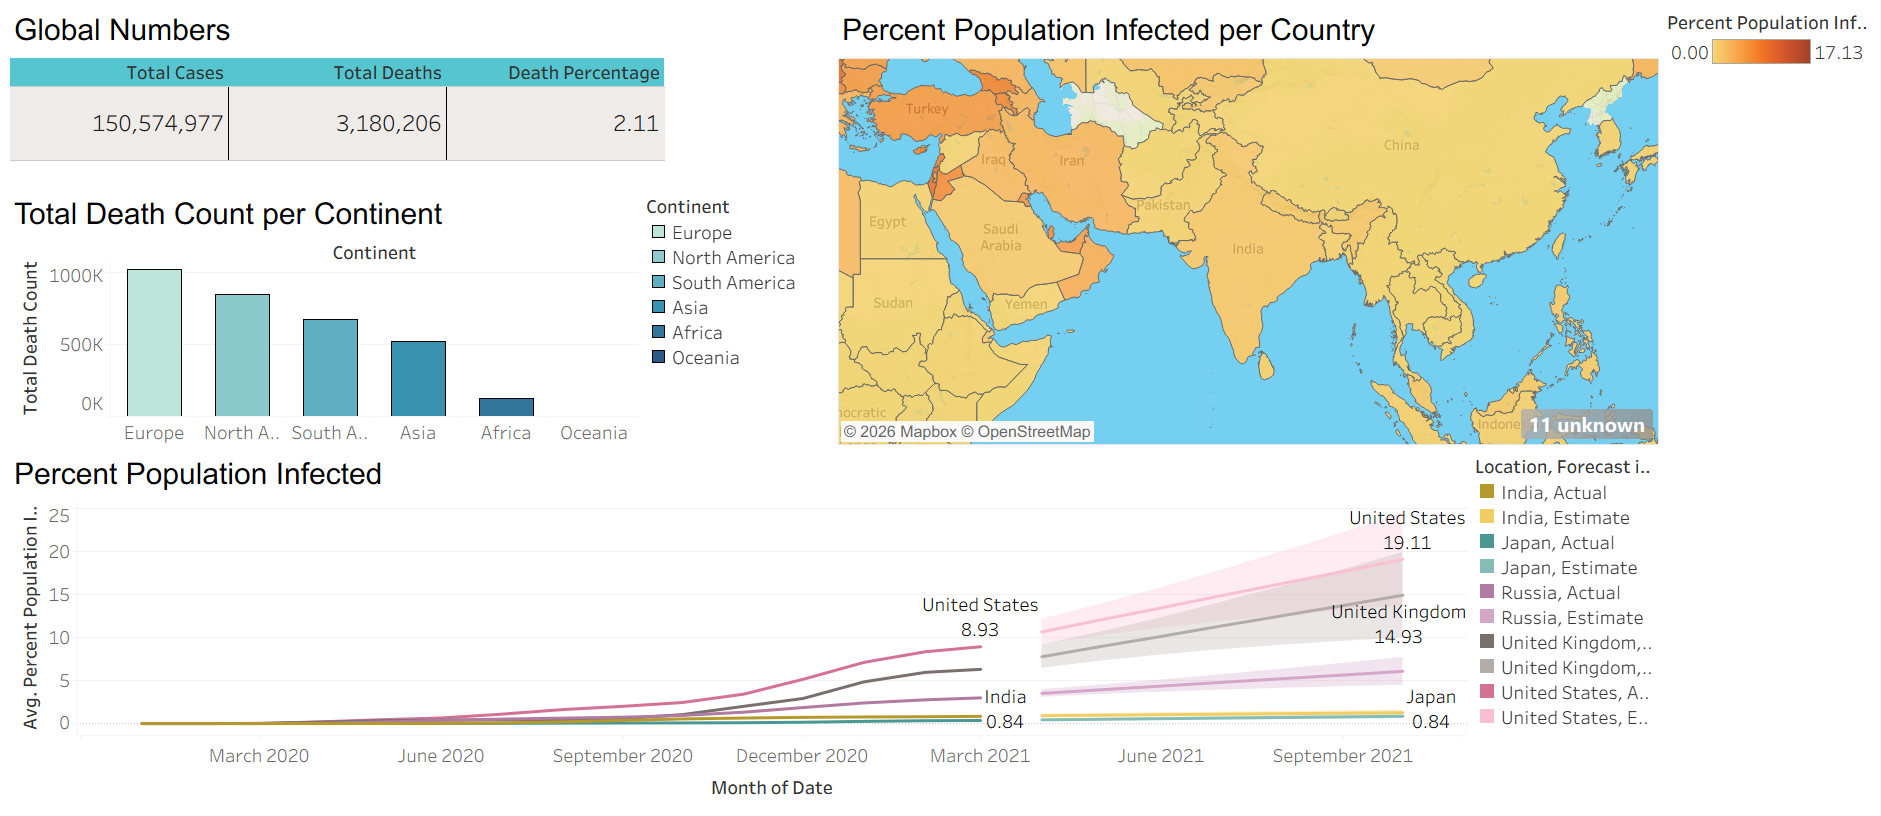

The page's visual inventory and layout, read from the dashboard file:
{"tool":"tableau","page":{"name":"Dashboard 1","canvas":[1000,1000],"units":"permille","ordinal":0},"visuals":[{"type":"worksheet","title":"Sheet 1","mark":"Automatic","box":[5,9.7,429.8,224.1]},{"type":"worksheet","title":"Sheet 3","mark":"Automatic","box":[434.8,9.7,429.9,540.8]},{"type":"legend","title":"Sheet 3","param":"[federated.0h2jeox1h66dwm1c8emeq0co53yq].[sum:PercentPopulationInfected:qk]","box":[864.7,9.7,130.3,98.7]},{"type":"worksheet","title":"Sheet 2","mark":"Automatic","rows":["TotalDeathCount"],"cols":["location"],"box":[5,233.9,330.1,316.7]},{"type":"legend","title":"Sheet 2","param":"[federated.0v3s50j1tna2s71ac4bmb1oc6nqc].[none:location:nk]","box":[335.1,233.9,99.8,316.7]},{"type":"worksheet","title":"Sheet 4","mark":"Automatic","rows":["PercentPopulationInfected"],"cols":["date"],"box":[5,550.6,760,439.7]},{"type":"legend","title":"Sheet 4","param":"[federated.06sbf4l1cvl30v14m25ow0xy3x5p].[none:Location:nk]\n[federated.06sbf4l1c","box":[764.9,550.6,99.8,439.7]}]}

Visuals, with their boxes on the dashboard's canvas, which has no fixed pixel size, in thousandths of its width and height (x1, y1, x2, y2). These are canvas units, not pixel positions in the 1881x816 screenshot, which may show the page scaled, cropped or inside an application window:
"Sheet 1" worksheet: select_region(5, 10, 435, 234)
"Sheet 3" worksheet: select_region(435, 10, 865, 550)
"Sheet 3" legend: select_region(865, 10, 995, 108)
"Sheet 2" worksheet: select_region(5, 234, 335, 551)
"Sheet 2" legend: select_region(335, 234, 435, 551)
"Sheet 4" worksheet: select_region(5, 551, 765, 990)
"Sheet 4" legend: select_region(765, 551, 865, 990)
